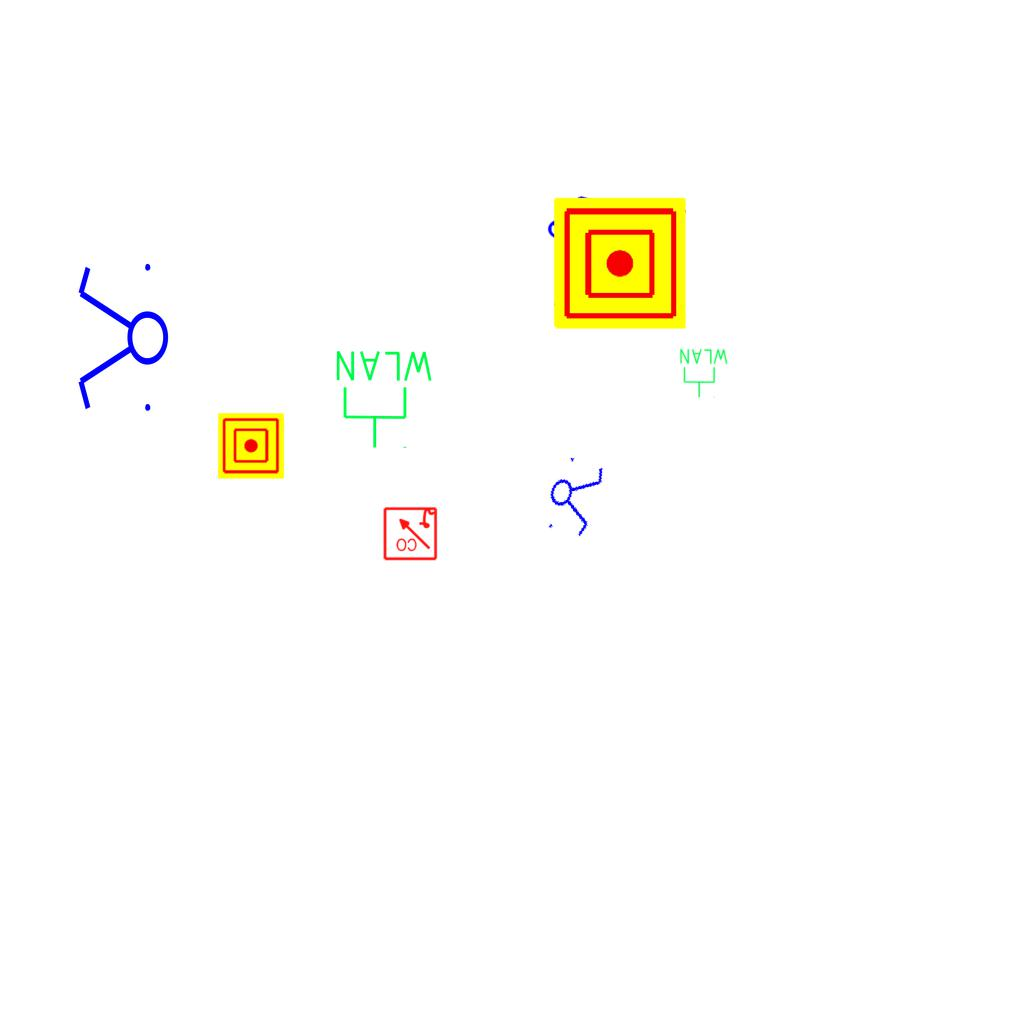Ausschalter_beleuchtet: (541, 192, 597, 240)
NAM-Nichtautomatischer_Melder: (554, 197, 686, 329), (218, 413, 284, 479)
ROA_Rauchmelder_optisch_mit_Signalgeber_(Sockelsirene): (382, 505, 438, 561)
Serienschalter: (74, 255, 170, 423), (538, 448, 610, 544)
WLAN: (332, 347, 437, 451), (678, 347, 730, 399)
